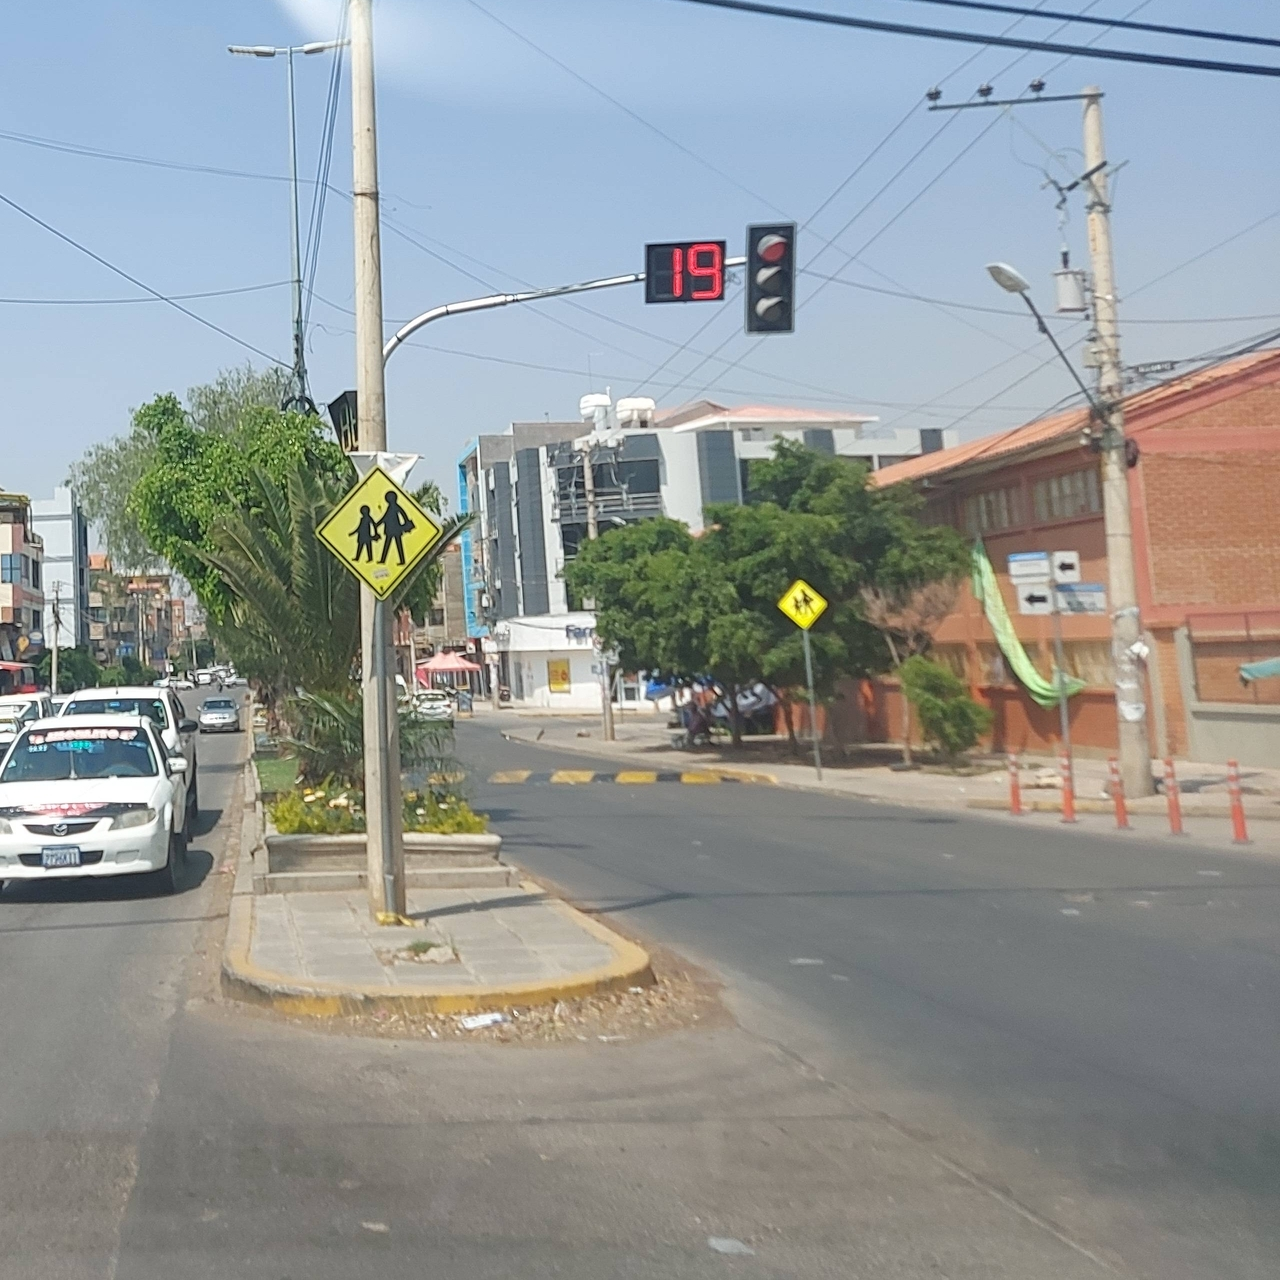zona-escolar: (312, 467, 451, 605)
